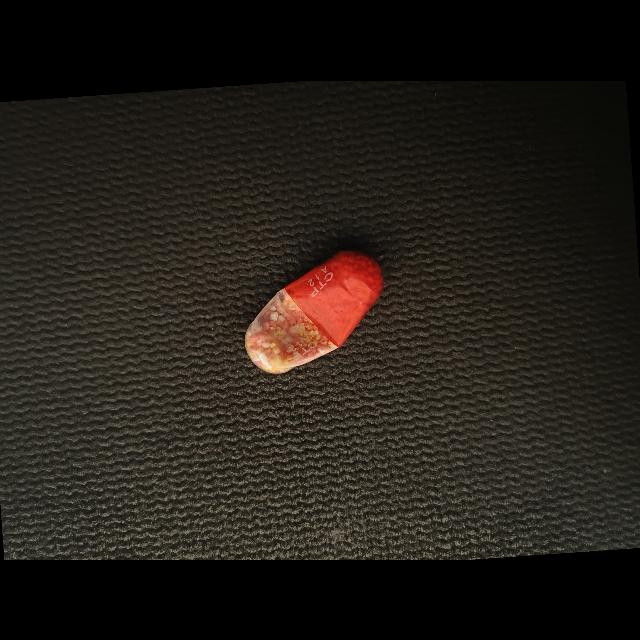Defective Capsule: (245, 250, 384, 374)
